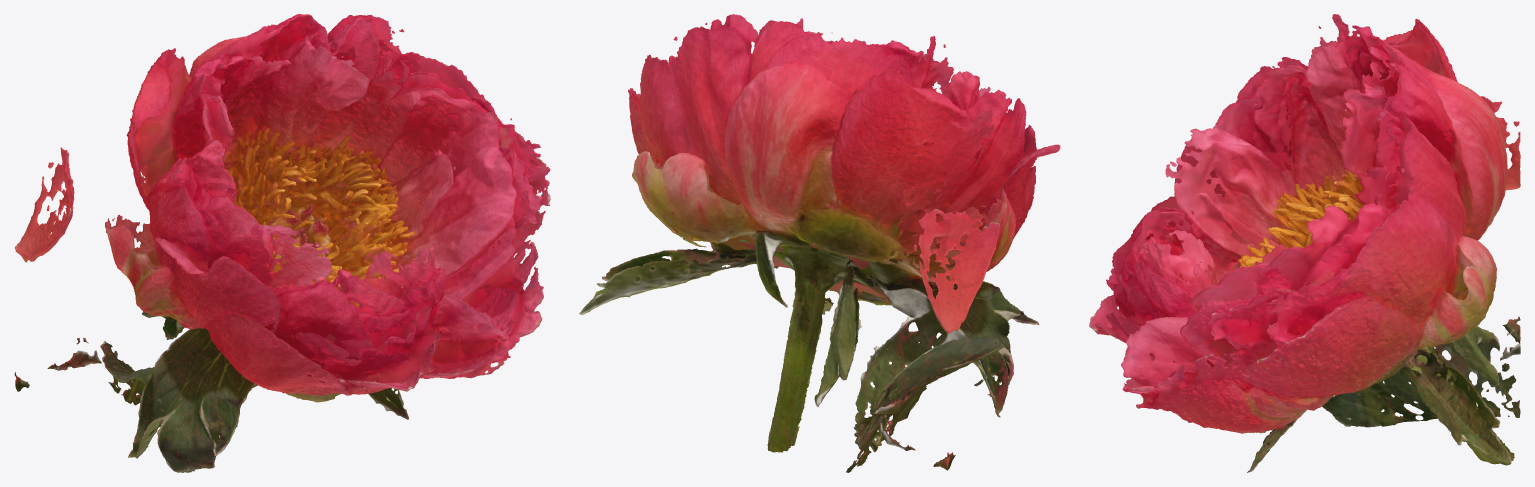
File: peonies.glb
The picture shows the model from 3 angles, left to right: view 1: azimuth 30°, elevation 25°; view 2: azimuth 150°, elevation 25°; view 3: azimuth 270°, elevation 25°; orthographic projection. The views are drawn at different scales.
Parts seen in each view (by area): view 1: model; view 2: model; view 3: model.
Boxes of the visible parts, box(x1,y1,x2,y2) form: model: box(14, 14, 550, 472); model: box(579, 14, 1060, 472); model: box(1089, 14, 1520, 472).
Bounding box in the file's own units: 0.1458 × 0.1279 × 0.1214.
Materials: 1 (1 with a texture image).
